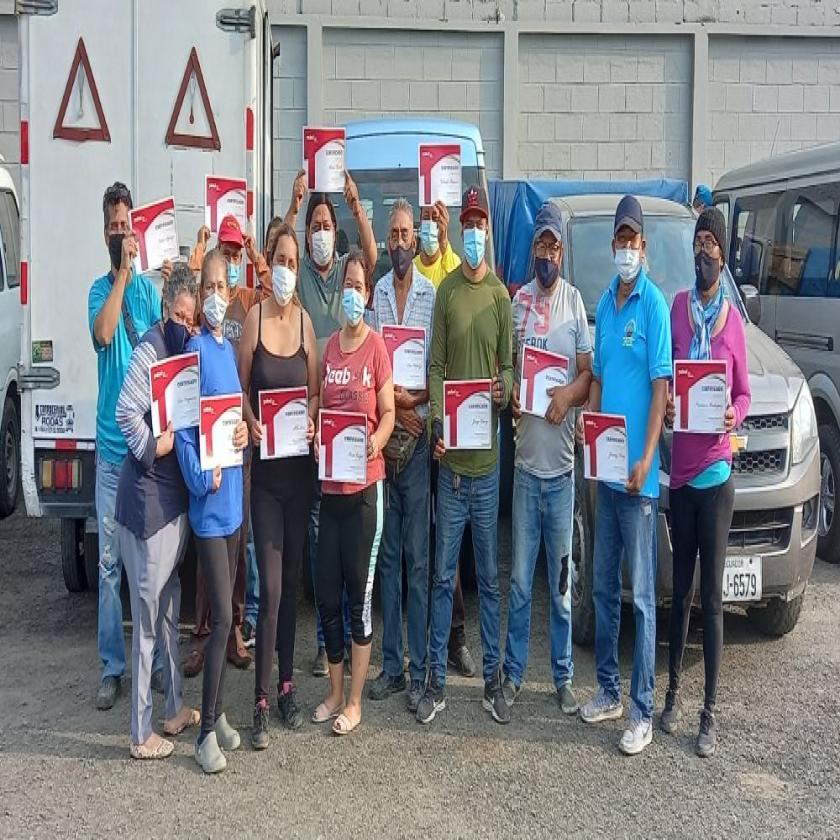Sin_casco: (162, 260, 200, 349), (268, 222, 302, 306), (100, 177, 133, 263), (342, 257, 374, 337), (306, 193, 338, 271), (201, 247, 229, 331), (388, 201, 418, 277)
